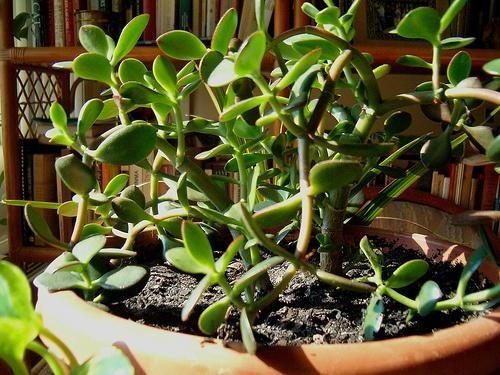pottedplant: (3, 3, 500, 375)
